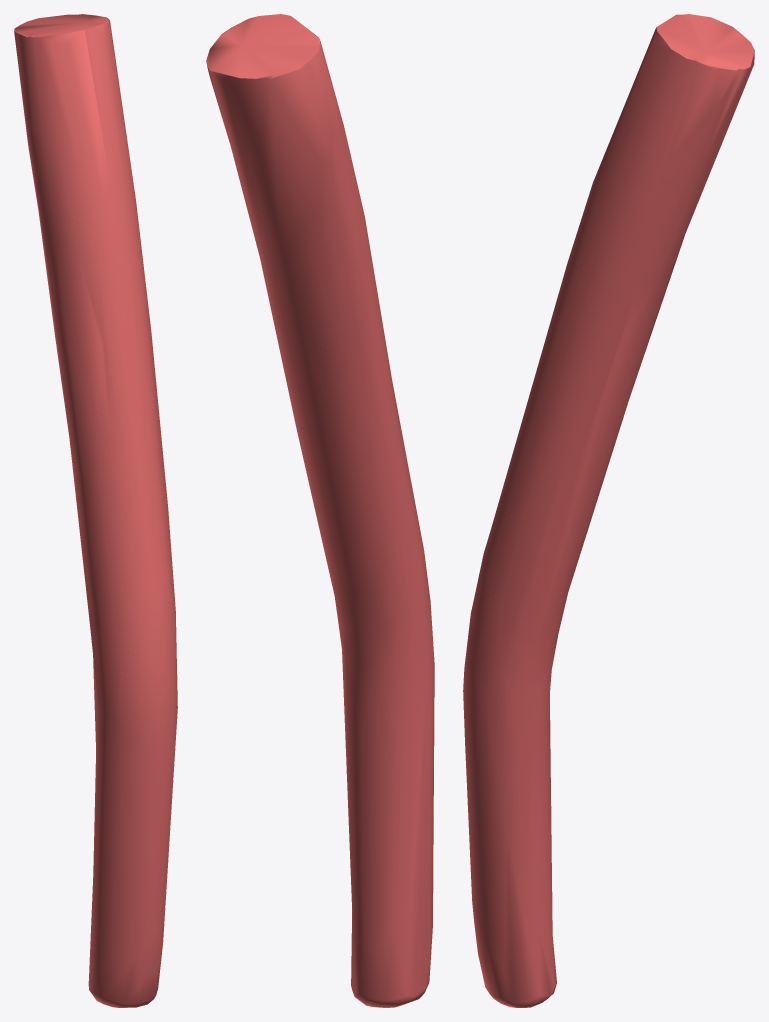
Rendered from aorta-abdominal.glb.
The picture shows the model from 3 angles, left to right: view 1: azimuth 30°, elevation 25°; view 2: azimuth 150°, elevation 25°; view 3: azimuth 270°, elevation 25°; orthographic projection. The views are drawn at different scales.
Visible parts, largest first — view 1: aorta-abdominal; view 2: aorta-abdominal; view 3: aorta-abdominal.
Boxes of the visible parts, x1=… form: aorta-abdominal: x1=14, y1=14, x2=177, y2=1007; aorta-abdominal: x1=206, y1=14, x2=434, y2=1007; aorta-abdominal: x1=463, y1=14, x2=754, y2=1007.
Size of the model in its own units: 0.0209 by 0.1872 by 0.0503.
